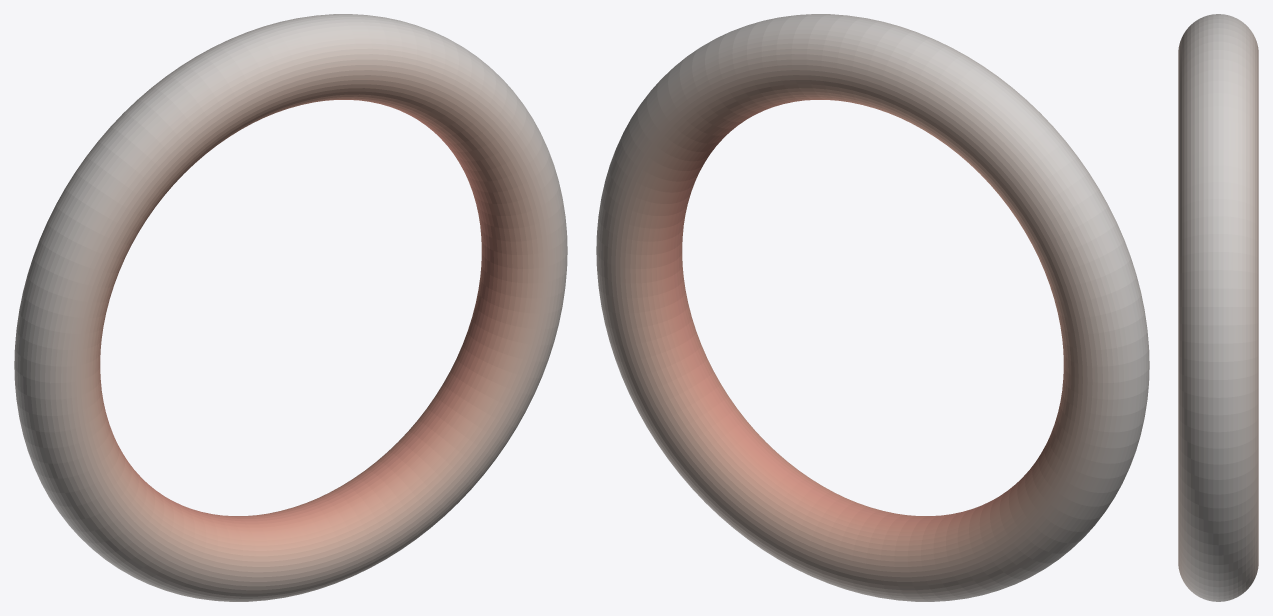
3 renders of one model, left to right at view 1: azimuth 30°, elevation 25°; view 2: azimuth 150°, elevation 25°; view 3: azimuth 270°, elevation 25°, orthographic. The views are drawn at different scales.
Parts seen in each view (by area): view 1: world; view 2: world; view 3: world.
Part boxes in pixels (left/top/right/bottom): world: left=14, top=14, right=567, bottom=601; world: left=596, top=14, right=1149, bottom=601; world: left=1178, top=14, right=1258, bottom=601.
Size of the model in its own units: 34 by 34 by 4.66.
